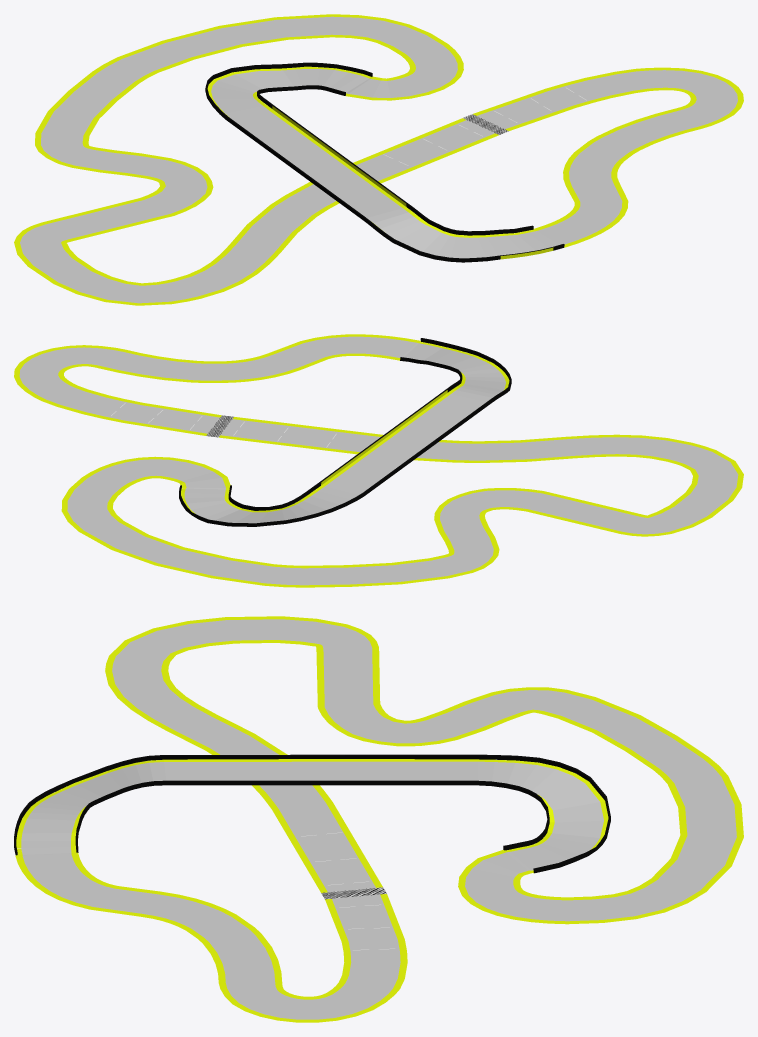
Rendered from trial.FBX.
The picture shows the model from 3 angles, top to bottom: view 1: azimuth 30°, elevation 25°; view 2: azimuth 150°, elevation 25°; view 3: azimuth 270°, elevation 25°; orthographic projection. The views are drawn at different scales.
Visible parts, largest first — view 1: Object001, track-bridge01, edges; view 2: Object001, track-bridge01, edges; view 3: Object001, track-bridge01, edges.
Boxes of the visible parts, x1,y1,x2,y2 form: Object001: (20,16,737,303); track-bridge01: (14,14,743,305); edges: (205,62,564,262); Object001: (19,336,738,585); track-bridge01: (14,334,743,587); edges: (179,338,511,526); Object001: (21,619,736,1019); track-bridge01: (15,616,743,1022); edges: (14,754,610,873).
Bounding box in the file's own units: 290 × 7.7 × 220.
